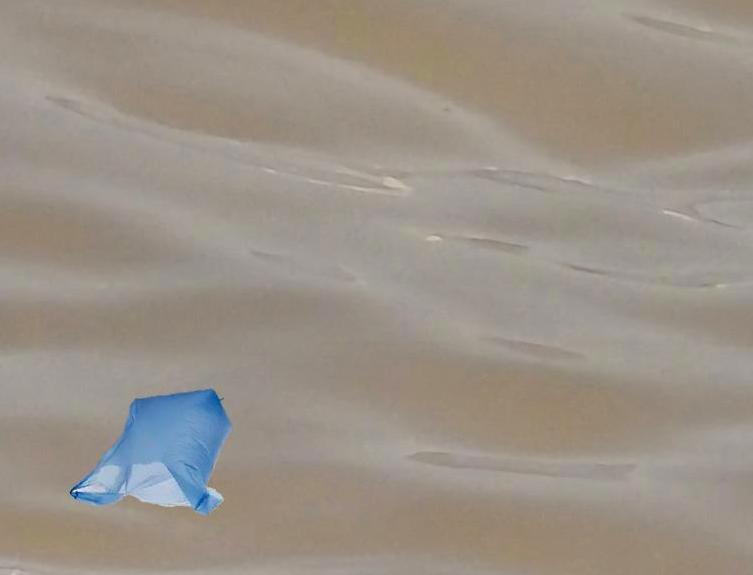Trash: (67, 388, 230, 518)
